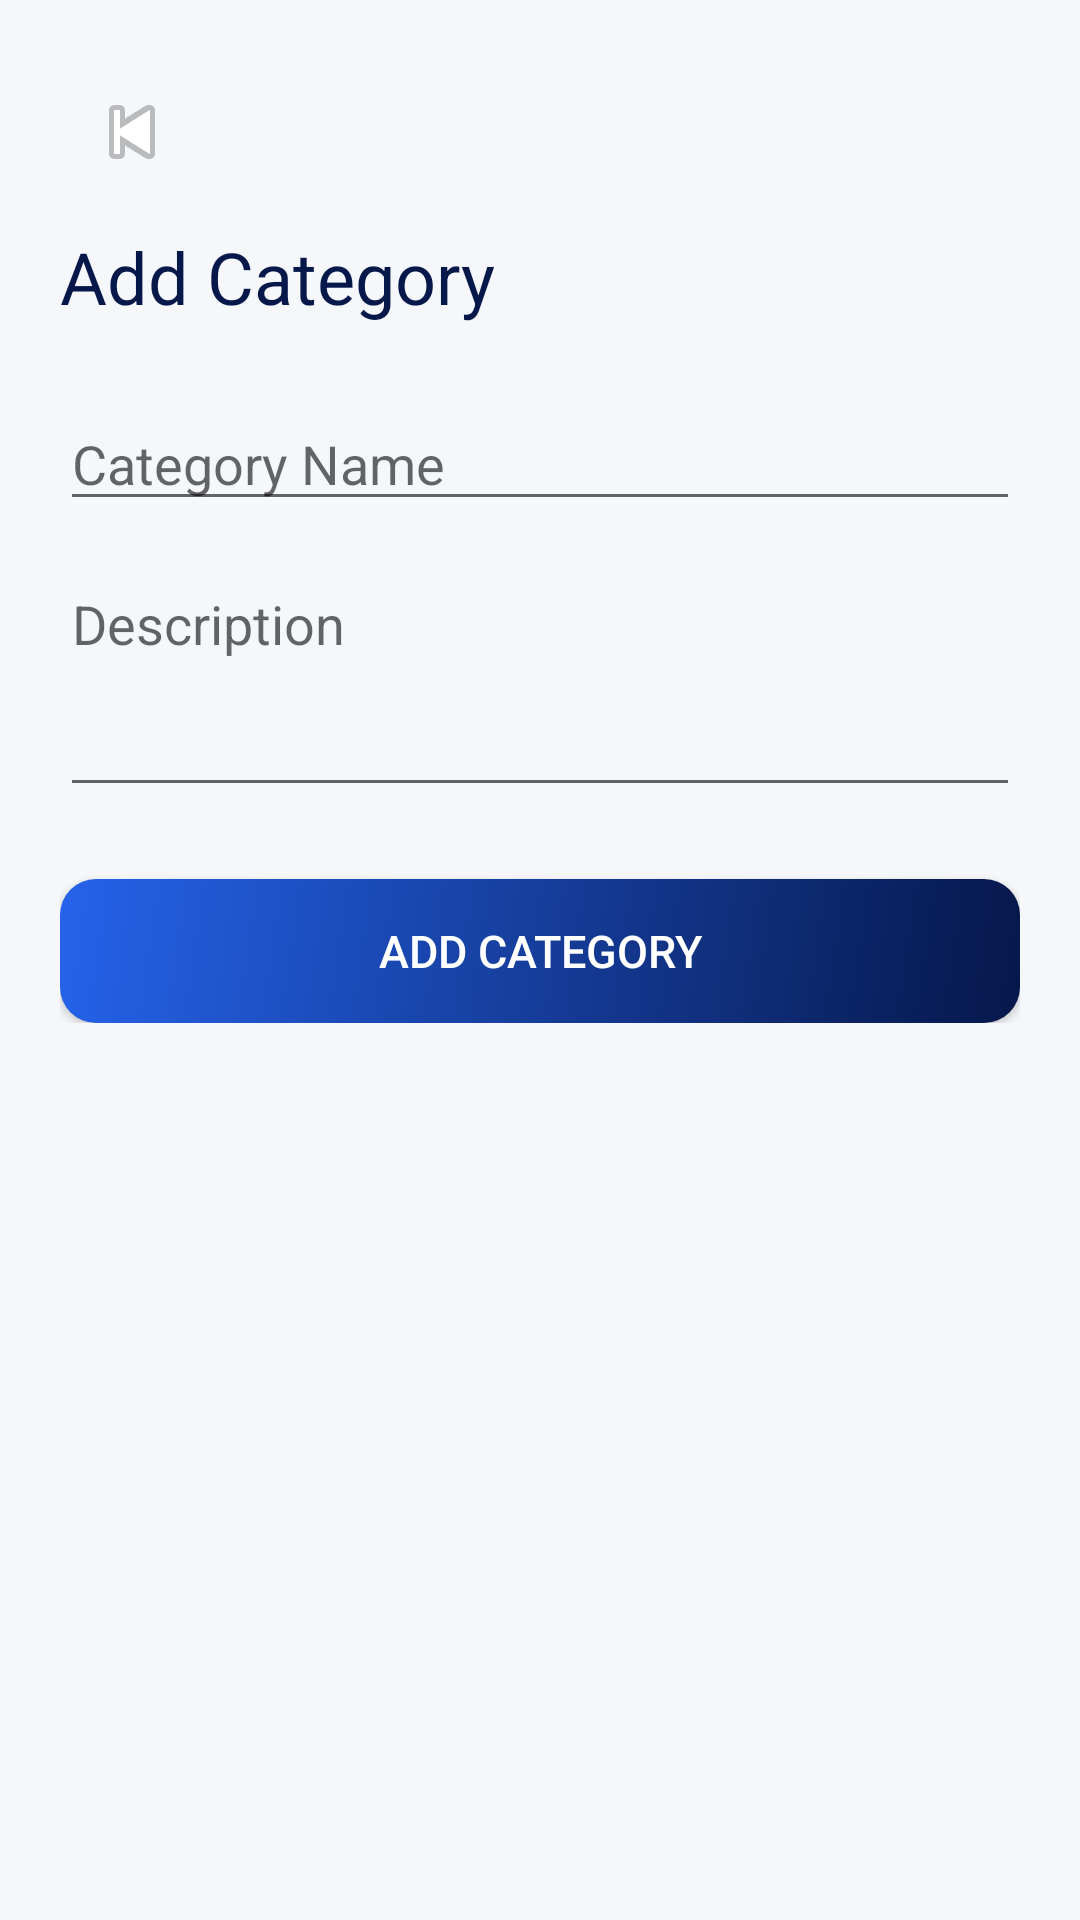

Screen size 1080×1920. Icon name, then its center in pixels as (x,y):
Back: (132,132)
